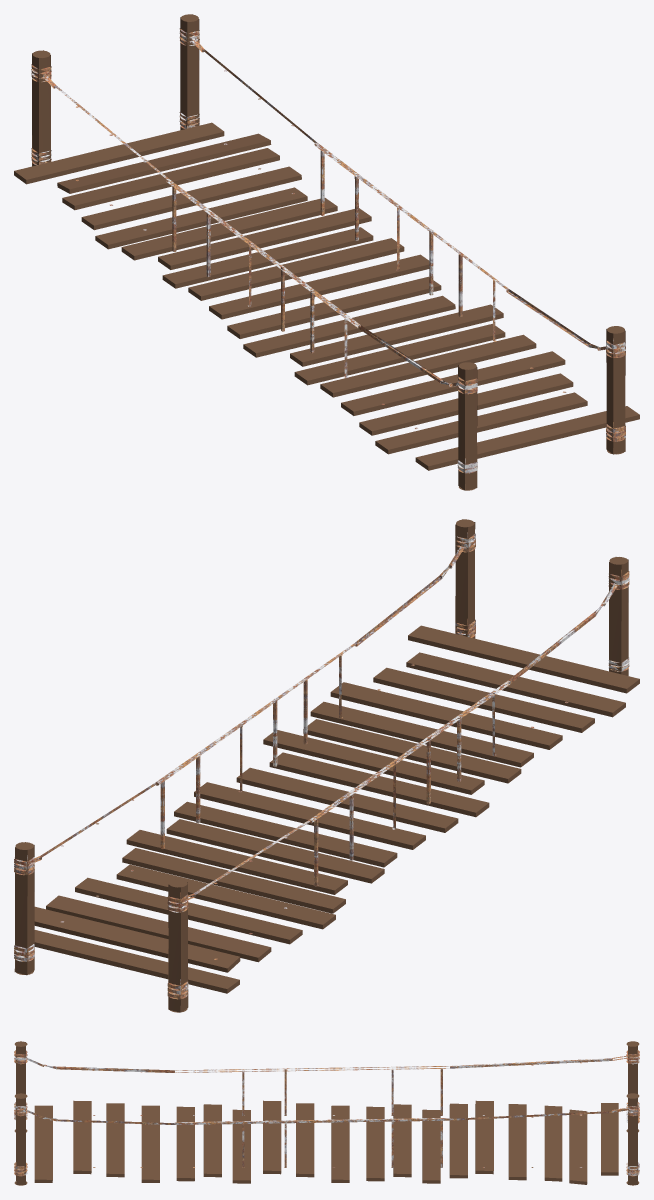
The model's file is Bridge lvl1.fbx.
The picture shows the model from 3 angles, top to bottom: view 1: azimuth 30°, elevation 25°; view 2: azimuth 150°, elevation 25°; view 3: azimuth 270°, elevation 25°; orthographic projection. The views are drawn at different scales.
Visible parts, largest first — view 1: Bridge Lvl1; view 2: Bridge Lvl1; view 3: Bridge Lvl1.
Part boxes in pixels (x1=…): Bridge Lvl1: x1=14, y1=14, x2=639, y2=490; Bridge Lvl1: x1=14, y1=519, x2=639, y2=1012; Bridge Lvl1: x1=14, y1=1041, x2=639, y2=1185.
Size of the model in its own units: 726 by 367 by 2400.
